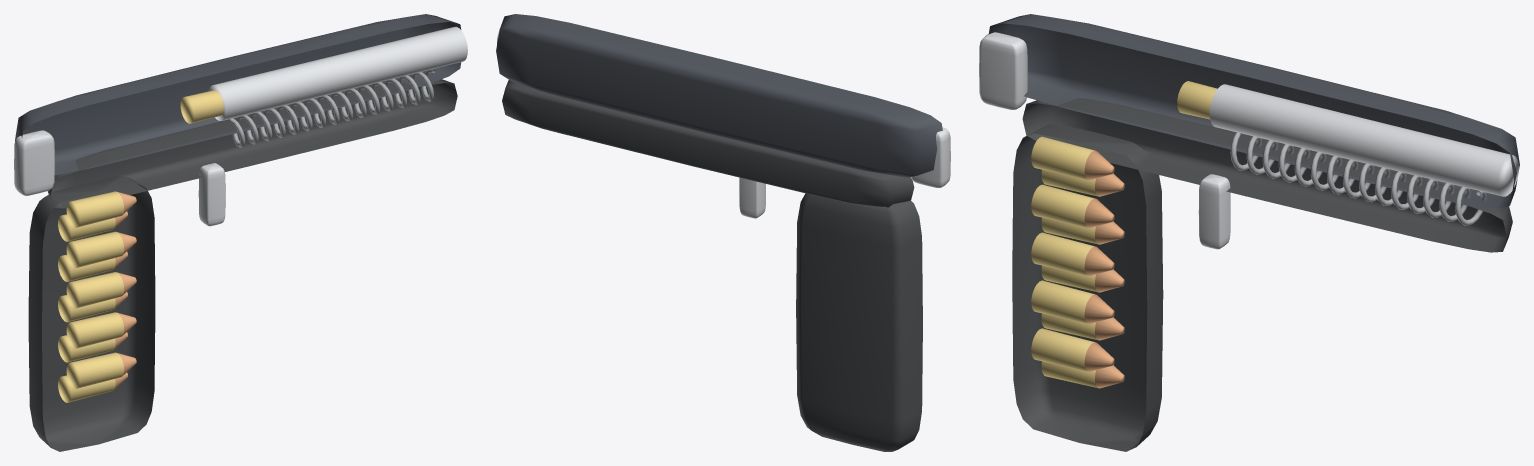
Rendered from fort17-cut.glb.
3 renders of one model, left to right at view 1: azimuth 30°, elevation 25°; view 2: azimuth 150°, elevation 25°; view 3: azimuth 330°, elevation 25°, orthographic. The views are drawn at different scales.
Parts seen in each view (by area): view 1: grip_polymer, slide_steel, frame_polymer, barrel_95mm, recoil_spring, hammer, trigger, mag_case_4, mag_case_8, mag_case_2, mag_case_6, mag_case_0 (+6 smaller); view 2: slide_steel, grip_polymer, frame_polymer, hammer, trigger; view 3: grip_polymer, slide_steel, frame_polymer, barrel_95mm, recoil_spring, hammer, trigger, mag_case_4, mag_case_2, mag_case_6, mag_case_0, mag_case_8 (+11 smaller).
Part boxes in pixels (box(x1,y1,x2,y2)): grip_polymer: box(28, 176, 155, 451); slide_steel: box(15, 14, 461, 175); frame_polymer: box(47, 79, 457, 208); barrel_95mm: box(208, 26, 467, 120); recoil_spring: box(230, 68, 436, 147); hammer: box(14, 130, 54, 195); trigger: box(198, 163, 225, 226); mag_case_4: box(66, 272, 123, 308); mag_case_8: box(66, 352, 123, 388); mag_case_2: box(66, 231, 123, 268); mag_case_6: box(66, 312, 123, 348); mag_case_0: box(66, 191, 123, 227); slide_steel: box(496, 14, 942, 177); grip_polymer: box(796, 193, 922, 451); frame_polymer: box(502, 80, 914, 207); hammer: box(911, 127, 950, 187); trigger: box(739, 177, 765, 218); grip_polymer: box(1012, 124, 1163, 451); slide_steel: box(988, 14, 1519, 208); frame_polymer: box(1022, 98, 1512, 252); barrel_95mm: box(1209, 84, 1518, 196); recoil_spring: box(1230, 132, 1486, 225); hammer: box(979, 32, 1027, 109); trigger: box(1198, 174, 1230, 249); mag_case_4: box(1031, 232, 1094, 275); mag_case_2: box(1031, 184, 1094, 227); mag_case_6: box(1031, 280, 1094, 323); mag_case_0: box(1031, 136, 1094, 179); mag_case_8: box(1031, 328, 1094, 371).
Size of the model in its own units: 0.181 by 0.1325 by 0.0217.
